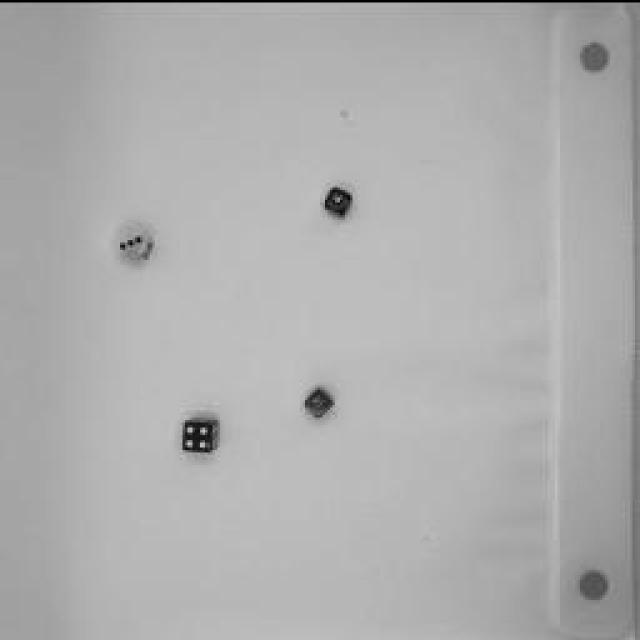dice_1: (320, 180, 360, 220)
dice_2: (295, 372, 340, 418)
dice_3: (115, 217, 157, 275)
dice_4: (175, 407, 225, 455)
